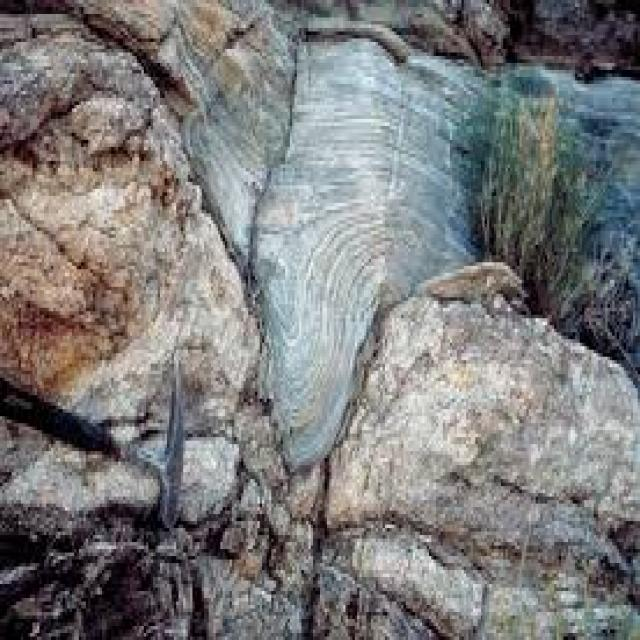Metamorphic: (2, 3, 640, 630)
